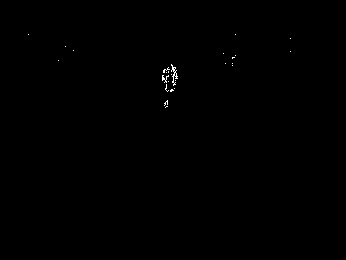person: (161, 62, 180, 108)
